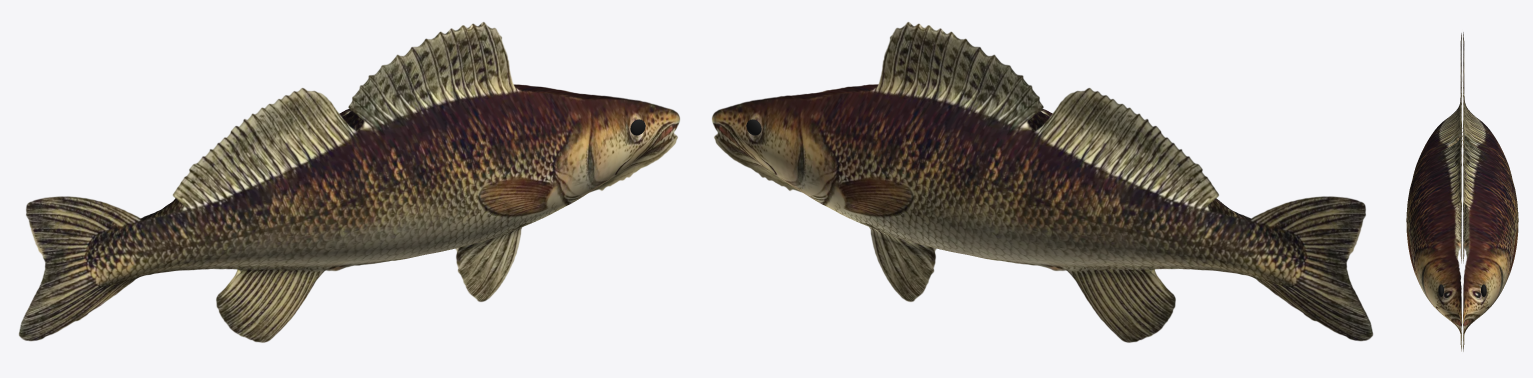
The model's file is sandre.glb.
3 renders of one model, left to right at view 1: azimuth 30°, elevation 25°; view 2: azimuth 150°, elevation 25°; view 3: azimuth 270°, elevation 25°, orthographic. The views are drawn at different scales.
Visible parts, largest first — view 1: sandre; view 2: sandre; view 3: sandre.
Part boxes in pixels (<box>): sandre: <box>19,22,679,342</box>; sandre: <box>712,22,1373,342</box>; sandre: <box>1406,32,1518,351</box>.
Bounding box in the file's own units: 1 × 0.4086 × 0.1956.
2 materials, 1 textured.
